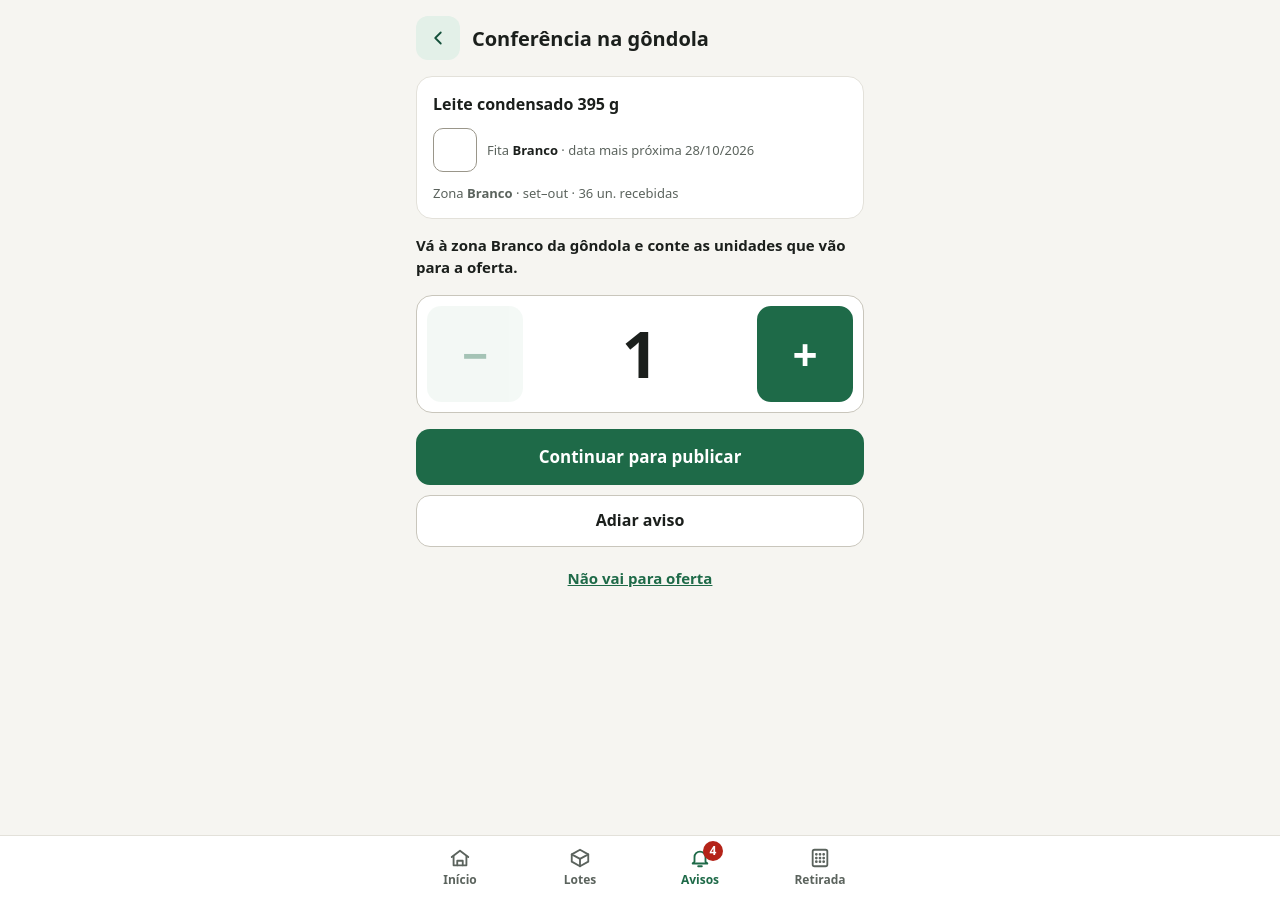
Test: L8 · Adiar aviso › opções depois do limite da API ficam desabilitadas; adiar volta para a lista
Click the button "Adiar aviso". click: (640, 521)
box: [416,495,864,547]
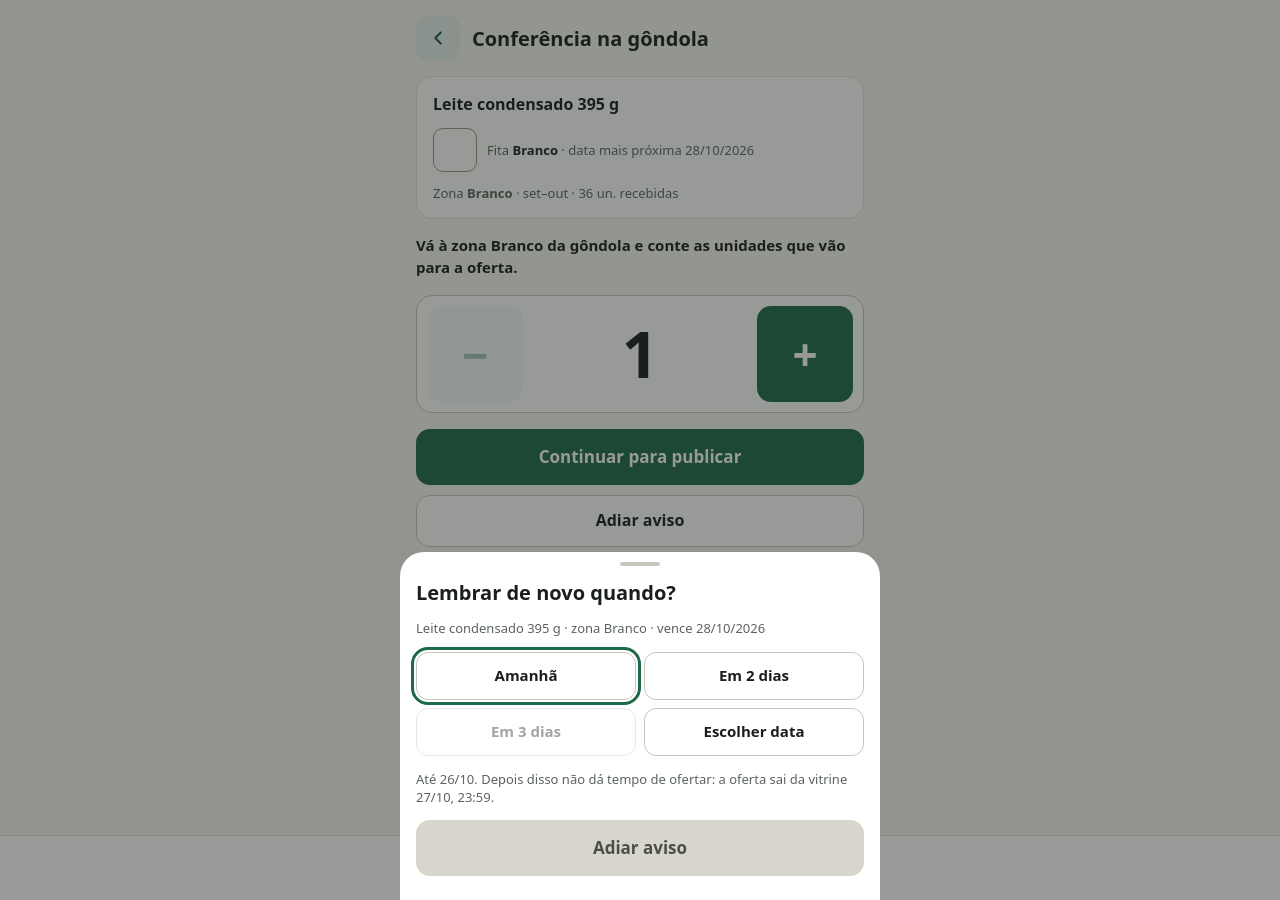
Check: the button "Em 3 dias" is disabled, box [416,708,636,756]
Check: the text "Depois disso não dá tempo de ofertar" shows "Até 26/10.", box [416,770,864,806]
Click the button "Em 2 dias". click: (754, 676)
box: [644,652,864,700]
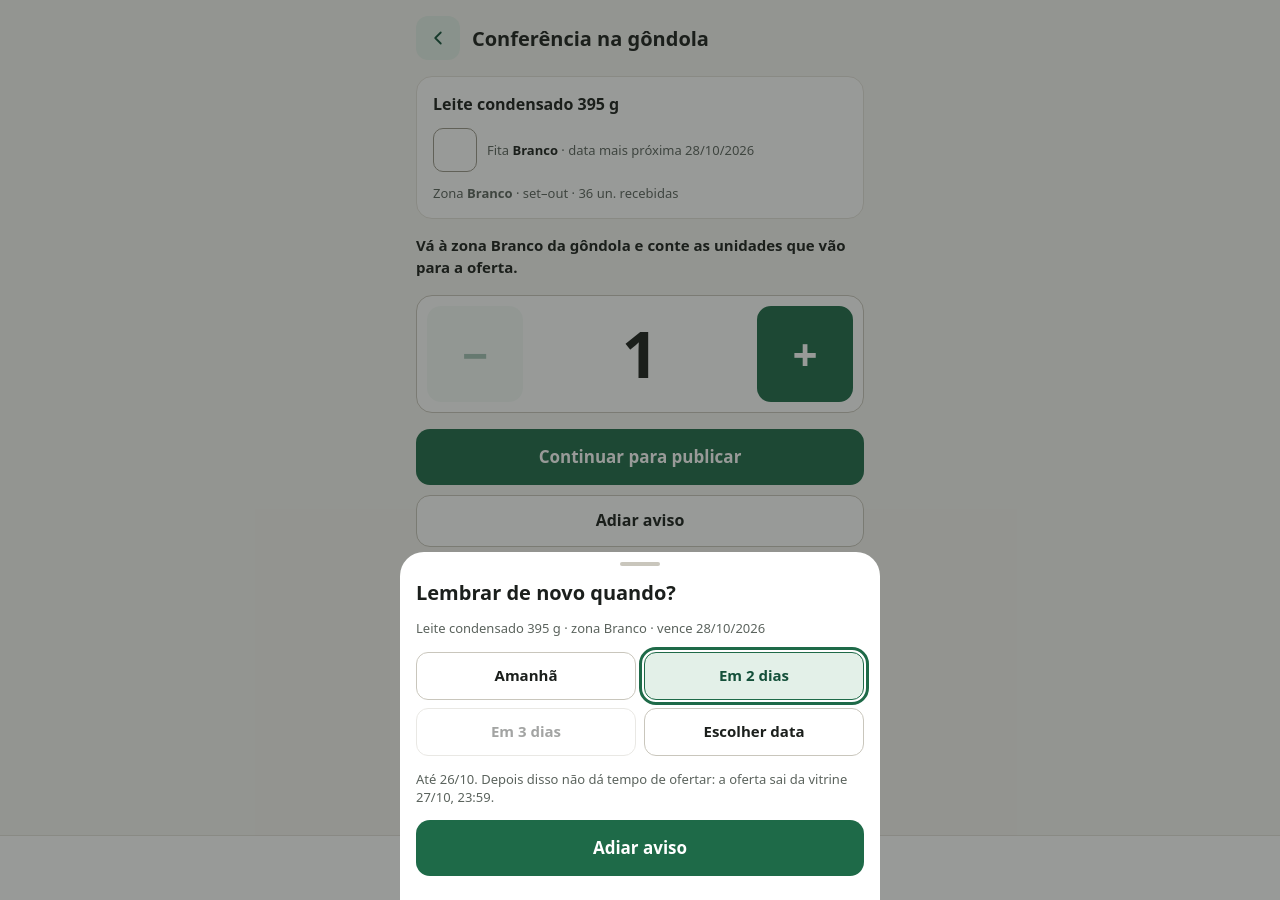
Click the button "Adiar aviso". click: (640, 848)
box: [416,820,864,876]
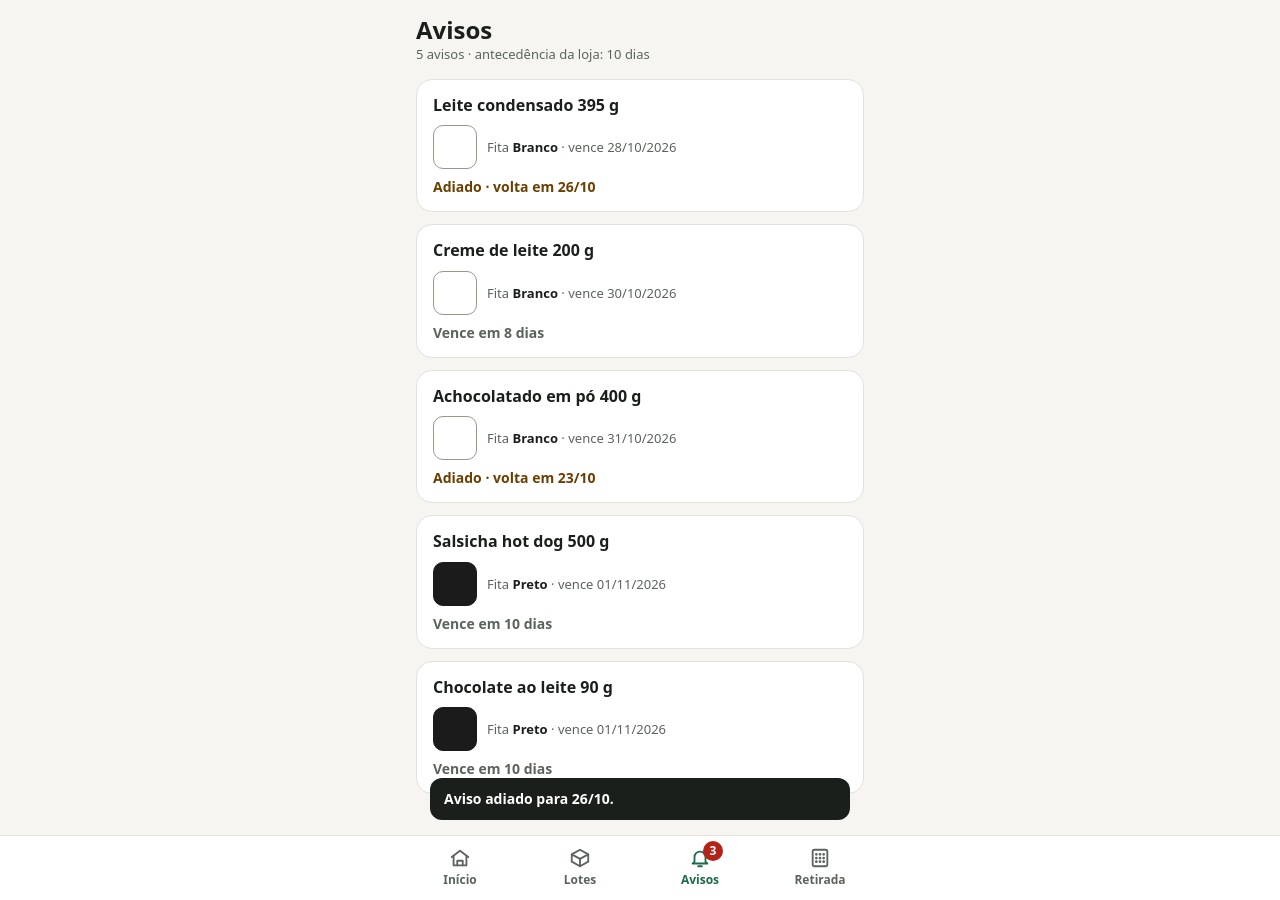
Check: the text "Aviso adiado para 26/10." is shown, box [444,790,614,808]
